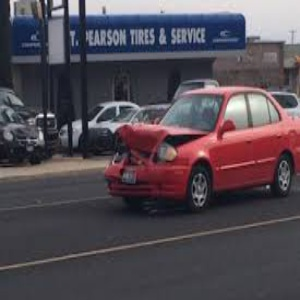bonnet: (118, 118, 172, 160)
